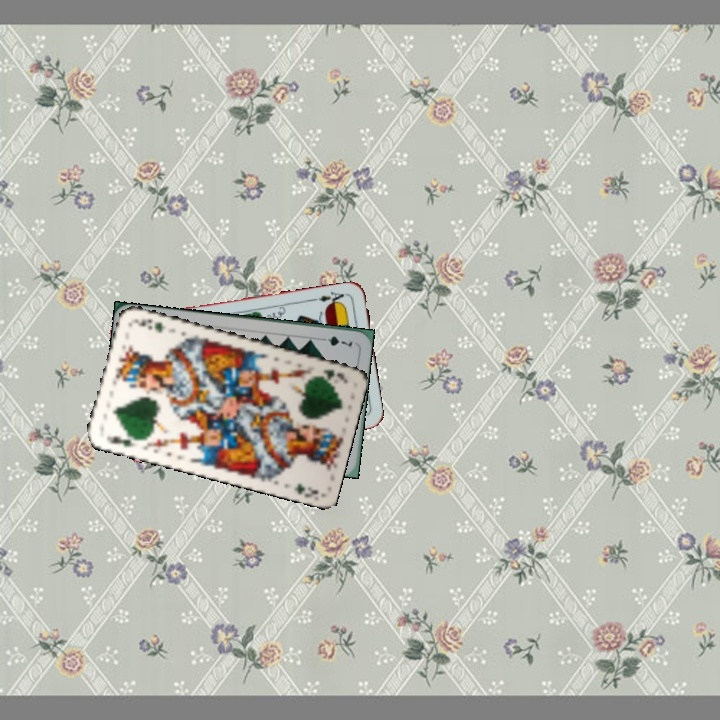EA: (309, 287, 350, 308)
G7: (316, 332, 355, 349)
GK: (314, 365, 351, 385), (102, 431, 138, 450)
